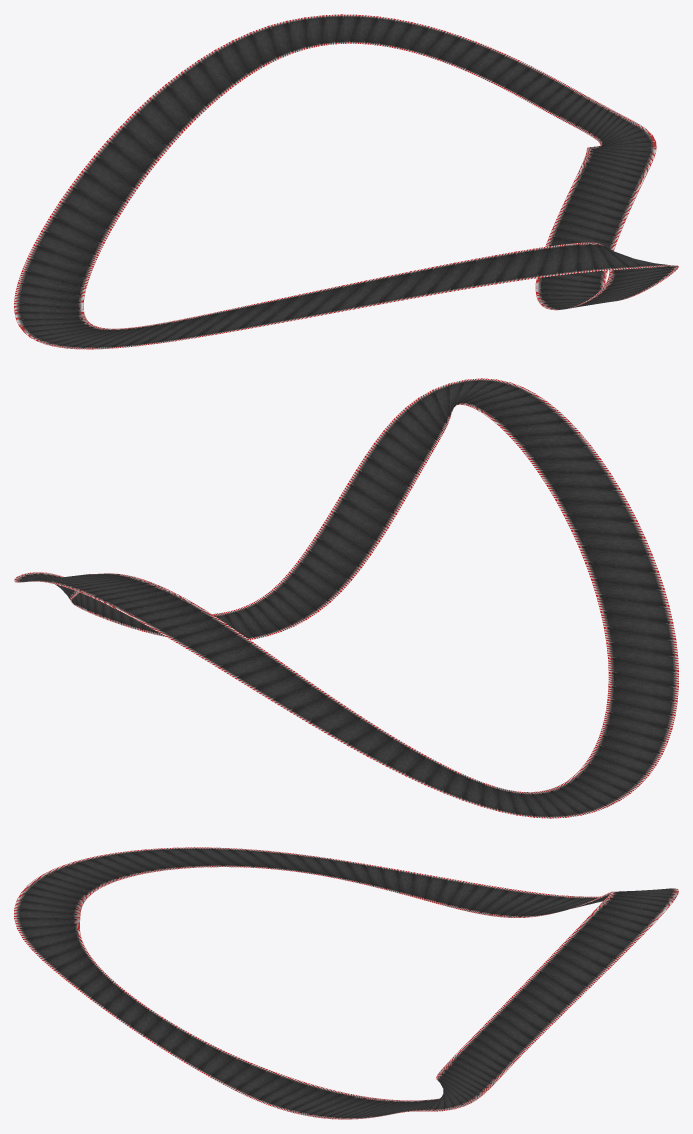
The model's file is pista.obj.
The picture shows the model from 3 angles, top to bottom: view 1: azimuth 30°, elevation 25°; view 2: azimuth 150°, elevation 25°; view 3: azimuth 270°, elevation 25°; orthographic projection. The views are drawn at different scales.
Parts seen in each view (by area): view 1: pista; view 2: pista; view 3: pista.
Boxes of the visible parts, x1,y1,x2,y2 form: pista: (14,14,678,349); pista: (14,378,678,818); pista: (14,847,678,1119).
Bounding box in the file's own units: 406 × 98.32 × 396.
